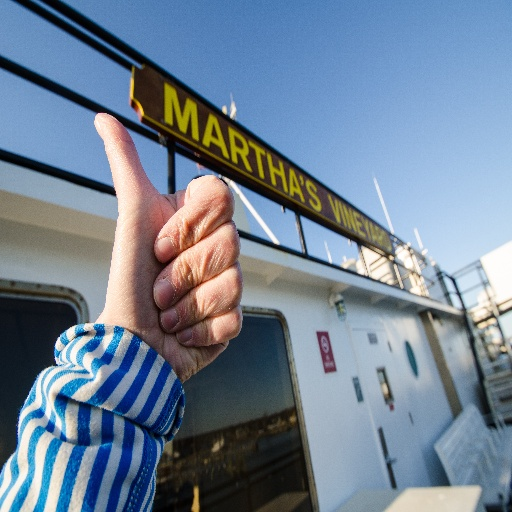hand: (92, 110, 244, 381)
